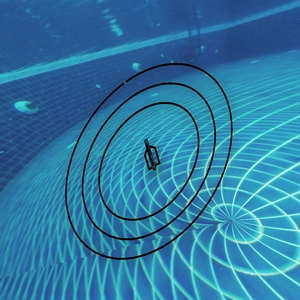submarine: (144, 141, 160, 169)
